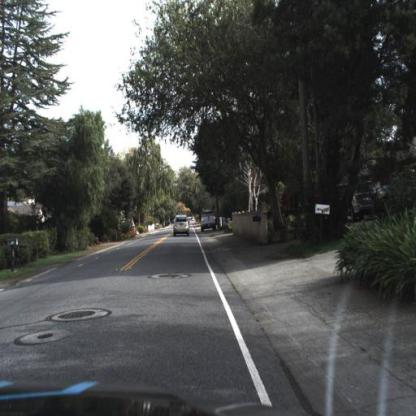car: (198, 208, 219, 236), (173, 214, 192, 237)
